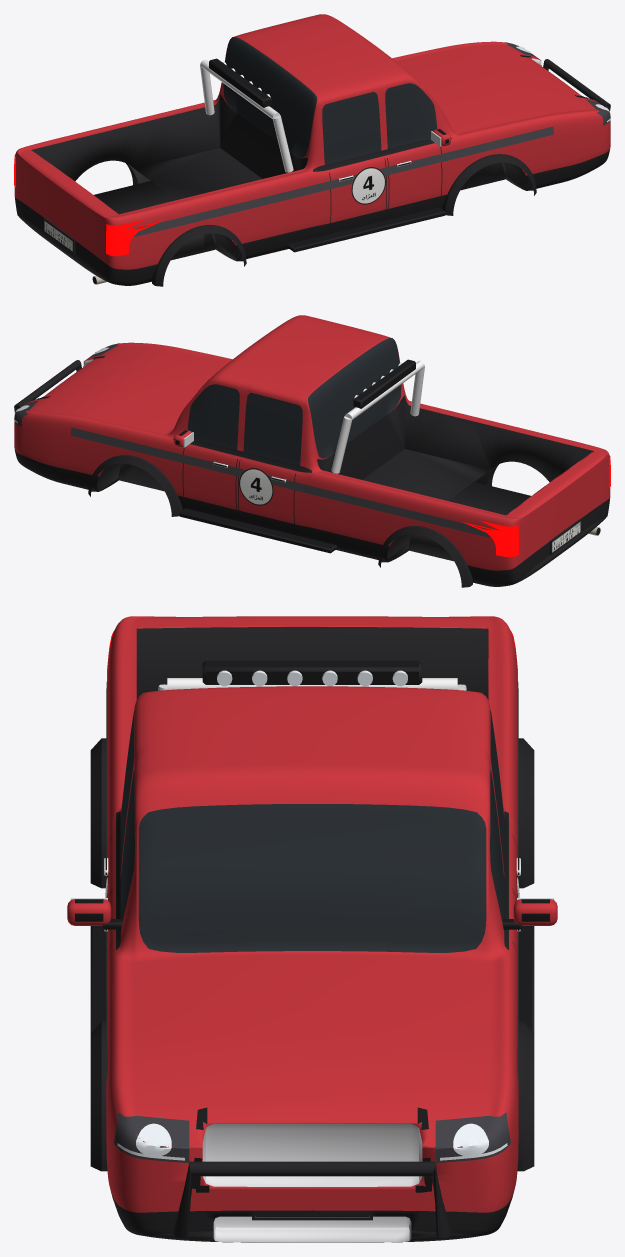
File: SM_HiluxRaider_Body.fbx
The picture shows the model from 3 angles, top to bottom: view 1: azimuth 30°, elevation 25°; view 2: azimuth 150°, elevation 25°; view 3: azimuth 270°, elevation 25°; orthographic projection. The views are drawn at different scales.
Visible parts, largest first — view 1: SM_HiluxRaider_Body; view 2: SM_HiluxRaider_Body; view 3: SM_HiluxRaider_Body.
Boxes of the visible parts, box(x1,y1,x2,y2) form: SM_HiluxRaider_Body: box(14, 14, 610, 286); SM_HiluxRaider_Body: box(14, 315, 610, 587); SM_HiluxRaider_Body: box(67, 616, 557, 1242).
Size of the model in its own units: 548 by 148 by 223.
